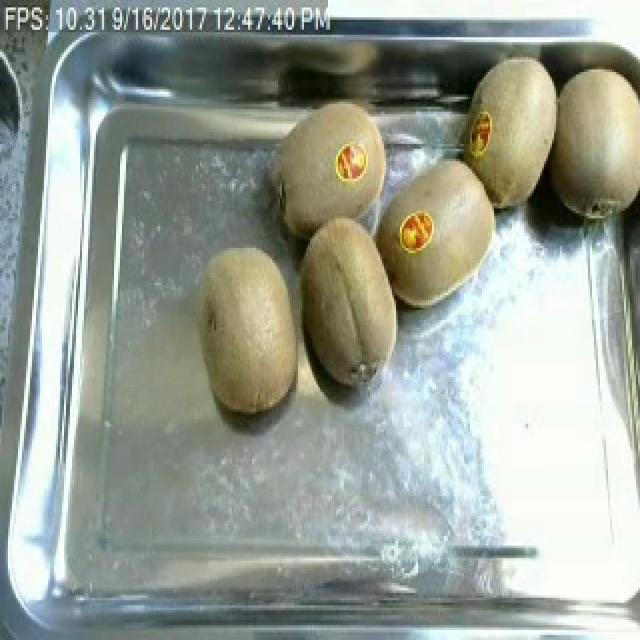Fruit: (190, 236, 312, 422), (288, 208, 408, 397), (262, 92, 400, 253), (392, 146, 506, 318), (452, 45, 558, 218), (550, 52, 640, 236)
